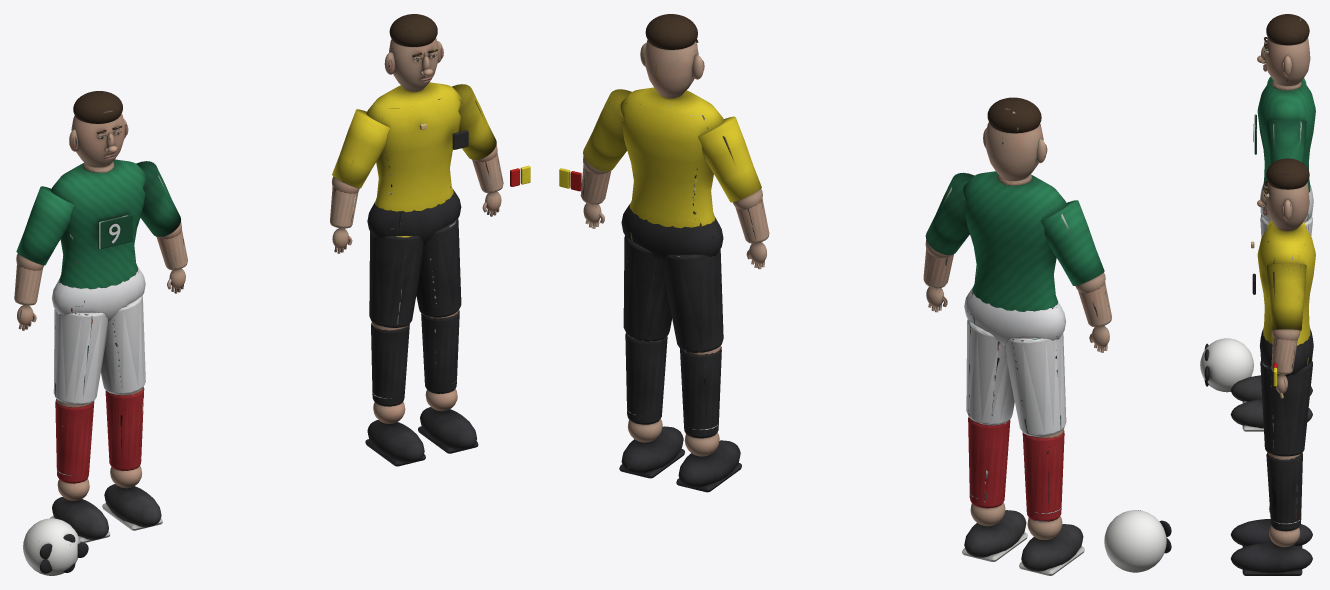
File: jugador_arbitro.obj
The picture shows the model from 3 angles, left to right: view 1: azimuth 30°, elevation 25°; view 2: azimuth 150°, elevation 25°; view 3: azimuth 270°, elevation 25°; orthographic projection. The views are drawn at different scales.
Visible parts, largest first — view 1: ARBITRO_|_camiseta_anatómica_m, CHICHARITO_|_camiseta_anatómica_m, Arbitro_muslo_izquierda_m, Jugador_CHICHARITO_muslo_izquierda_m, Arbitro_muslo_derecha_m, Jugador_CHICHARITO_muslo_derecha_m, Jugador_CHICHARITO_pierna_izquierda_m, Arbitro_pierna_izquierda_m, Jugador_CHICHARITO_pierna_derecha_m, Arbitro_pierna_derecha_m, ARBITRO_|_manga_anatómica_izquierda_m, CHICHARITO_|_manga_anatómica_izquierda_m (+18 smaller); view 2: ARBITRO_|_camiseta_anatómica_m, CHICHARITO_|_camiseta_anatómica_m, Arbitro_muslo_izquierda_m, Jugador_CHICHARITO_muslo_izquierda_m, Jugador_CHICHARITO_muslo_derecha_m, Arbitro_muslo_derecha_m, Arbitro_pierna_derecha_m, Jugador_CHICHARITO_pierna_izquierda_m, Jugador_CHICHARITO_pierna_derecha_m, Arbitro_pierna_izquierda_m, ARBITRO_|_manga_anatómica_izquierda_m, CHICHARITO_|_manga_anatómica_izquierda_m (+17 smaller); view 3: Arbitro_muslo_derecha_m, ARBITRO_|_camiseta_anatómica_m, CHICHARITO_|_camiseta_anatómica_m, Arbitro_pierna_derecha_m, ARBITRO_|_manga_anatómica_derecha_m, Balon_de_futbol_m, Arbitro_tachon_derecha_m, CHICHARITO_|_manga_anatómica_derecha_m, CHICHARITO_|_cráneo_facial_m, ARBITRO_|_cráneo_facial_m, CHICHARITO_|_masa_de_cabello_m, ARBITRO_|_masa_de_cabello_m (+11 smaller).
Part boxes in pixels (x1,y1,x2,y2): ARBITRO_|_camiseta_anatómica_m: [366, 82, 461, 212]; CHICHARITO_|_camiseta_anatómica_m: [51, 159, 146, 289]; Arbitro_muslo_izquierda_m: [369, 231, 423, 327]; Jugador_CHICHARITO_muslo_izquierda_m: [53, 309, 108, 404]; Arbitro_muslo_derecha_m: [416, 219, 461, 317]; Jugador_CHICHARITO_muslo_derecha_m: [100, 296, 145, 394]; Jugador_CHICHARITO_pierna_izquierda_m: [55, 399, 94, 483]; Arbitro_pierna_izquierda_m: [371, 322, 409, 406]; Jugador_CHICHARITO_pierna_derecha_m: [105, 387, 144, 470]; Arbitro_pierna_derecha_m: [421, 310, 459, 393]; ARBITRO_|_manga_anatómica_izquierda_m: [332, 109, 390, 188]; CHICHARITO_|_manga_anatómica_izquierda_m: [16, 186, 74, 265]; ARBITRO_|_camiseta_anatómica_m: [620, 87, 724, 228]; CHICHARITO_|_camiseta_anatómica_m: [963, 171, 1066, 311]; Arbitro_muslo_izquierda_m: [662, 249, 723, 352]; Jugador_CHICHARITO_muslo_izquierda_m: [1005, 333, 1066, 436]; Jugador_CHICHARITO_muslo_derecha_m: [966, 319, 1014, 425]; Arbitro_muslo_derecha_m: [623, 236, 671, 341]; Arbitro_pierna_derecha_m: [625, 333, 667, 424]; Jugador_CHICHARITO_pierna_izquierda_m: [1022, 430, 1064, 521]; Jugador_CHICHARITO_pierna_derecha_m: [968, 416, 1010, 508]; Arbitro_pierna_izquierda_m: [680, 346, 721, 438]; ARBITRO_|_manga_anatómica_izquierda_m: [698, 116, 761, 202]; CHICHARITO_|_manga_anatómica_izquierda_m: [1041, 200, 1104, 285]; Arbitro_muslo_derecha_m: [1260, 359, 1312, 456]; ARBITRO_|_camiseta_anatómica_m: [1257, 222, 1315, 345]; CHICHARITO_|_camiseta_anatómica_m: [1257, 79, 1315, 192]; Arbitro_pierna_derecha_m: [1266, 452, 1302, 531]; ARBITRO_|_manga_anatómica_derecha_m: [1267, 263, 1306, 330]; Balon_de_futbol_m: [1200, 338, 1253, 392]; Arbitro_tachon_derecha_m: [1230, 543, 1312, 572]; CHICHARITO_|_manga_anatómica_derecha_m: [1267, 119, 1306, 164]; CHICHARITO_|_cráneo_facial_m: [1265, 38, 1310, 85]; ARBITRO_|_cráneo_facial_m: [1266, 182, 1309, 230]; CHICHARITO_|_masa_de_cabello_m: [1266, 14, 1309, 45]; ARBITRO_|_masa_de_cabello_m: [1266, 158, 1309, 189].
Bounding box in the file's own units: 4.02 × 3.17 × 0.815.
Materials: 4 (4 with a texture image).
